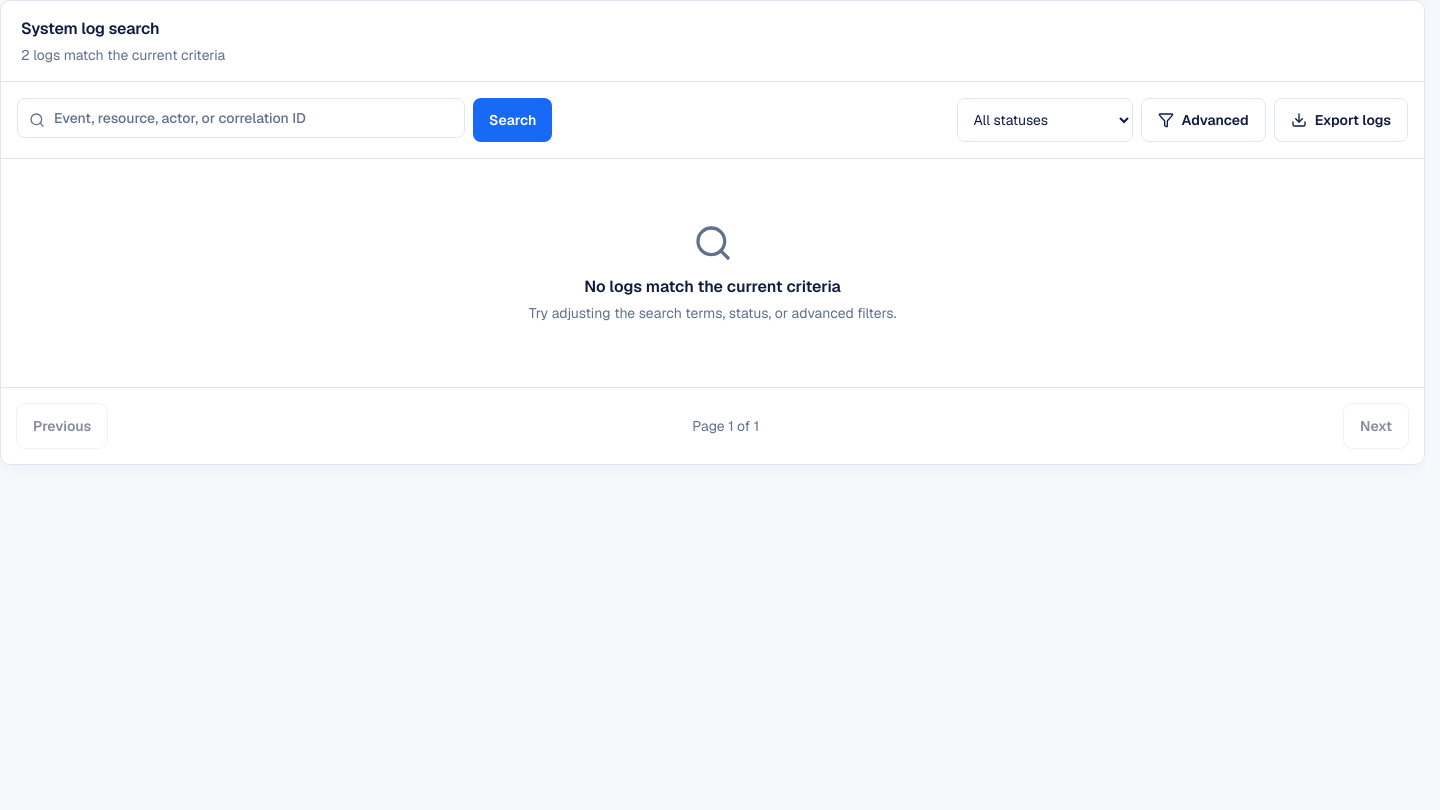
Test: Investigation log export errors › retains the form and shows request failures inside the modal
The image size is (1440, 810).
Click the button "Export logs".
click(1341, 120)  # box [1274, 98, 1408, 142]
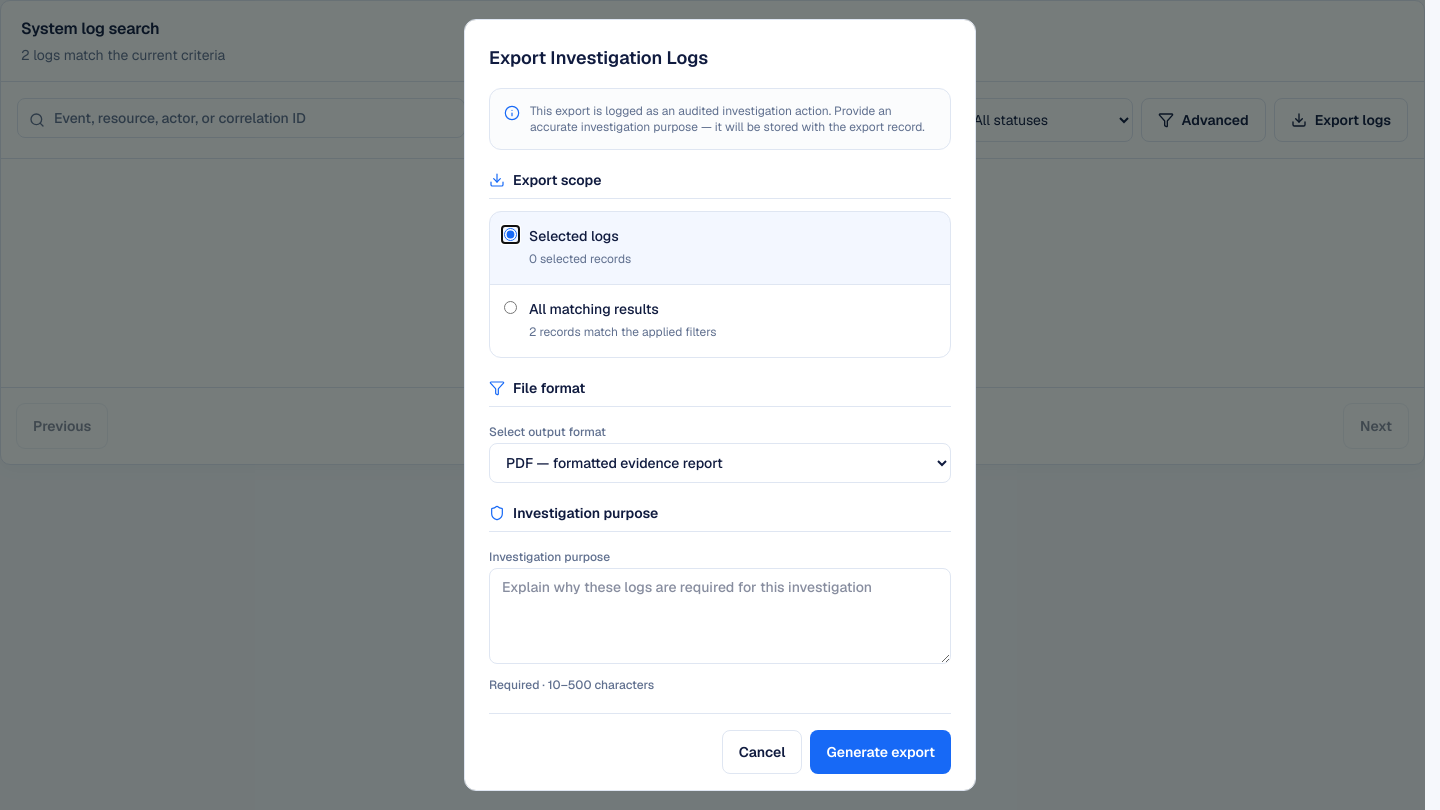
Click the radio button labelled "All matching results 2 records match the applied filters".
click(510, 308)  # box [504, 301, 517, 314]
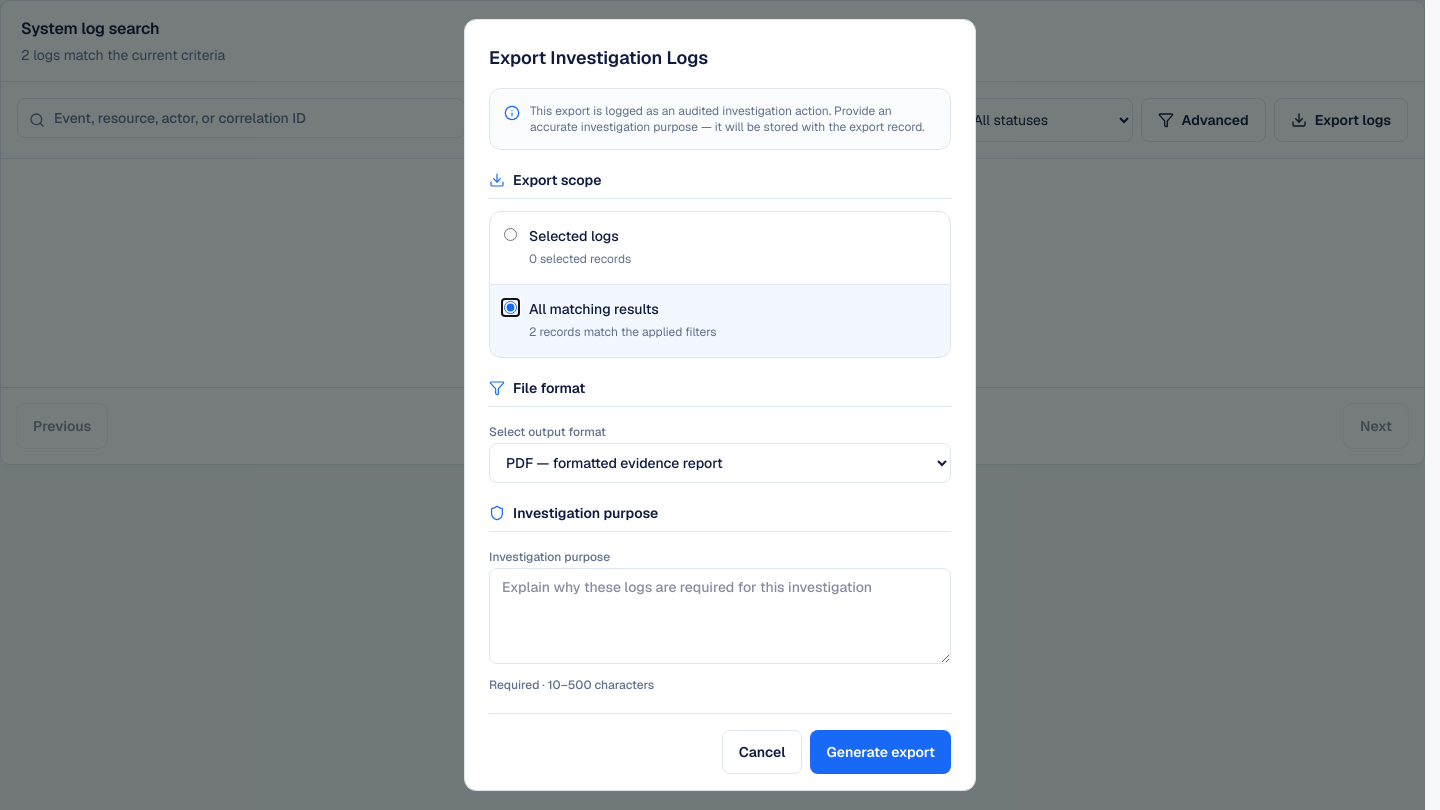
Type "Investigate notification delivery" into the text box labelled "Investigation purpose Required · 10–500 characters".
click(720, 616); type("Investigate notification delivery")  # box [489, 568, 951, 664]
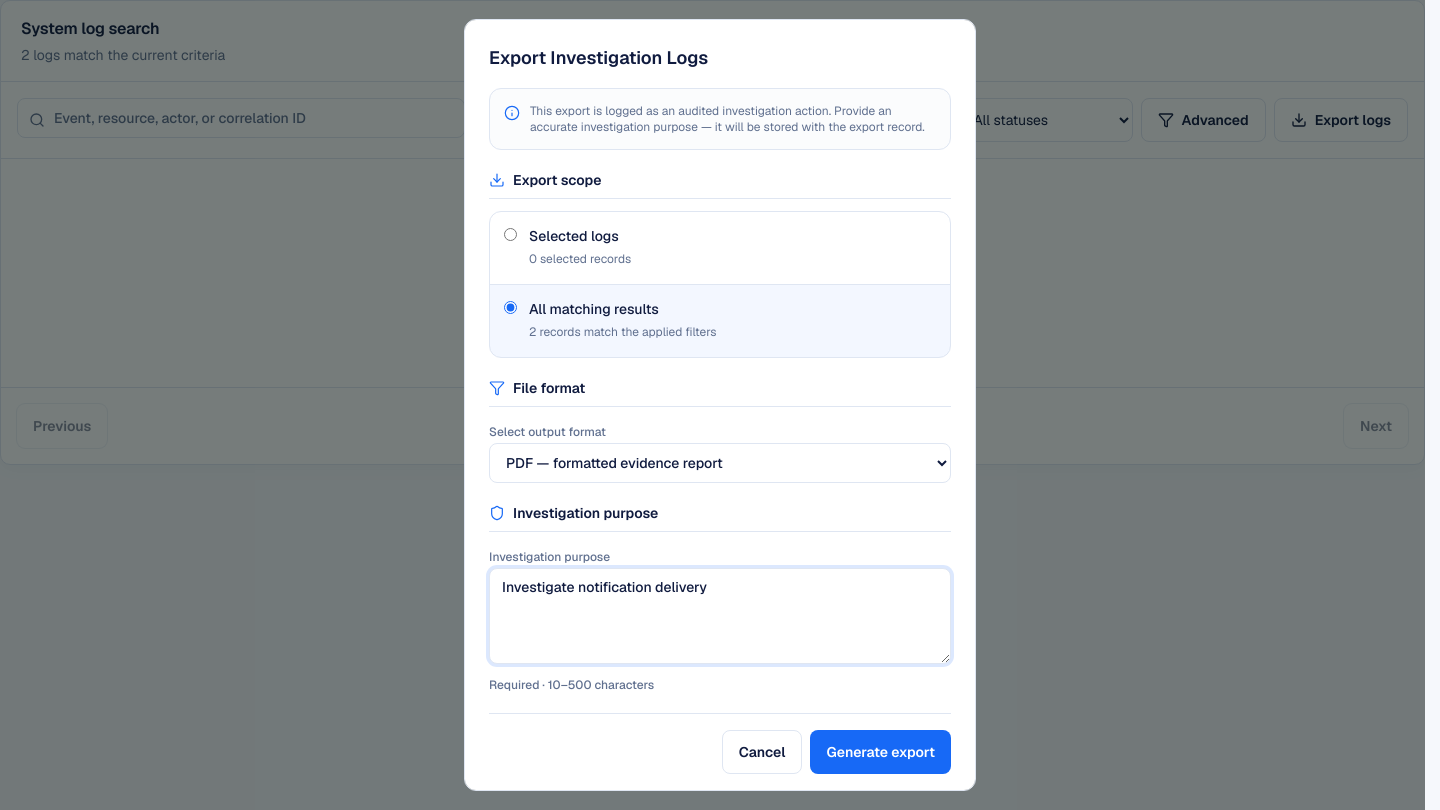
Click the button "Generate export".
click(881, 752)  # box [810, 730, 951, 774]
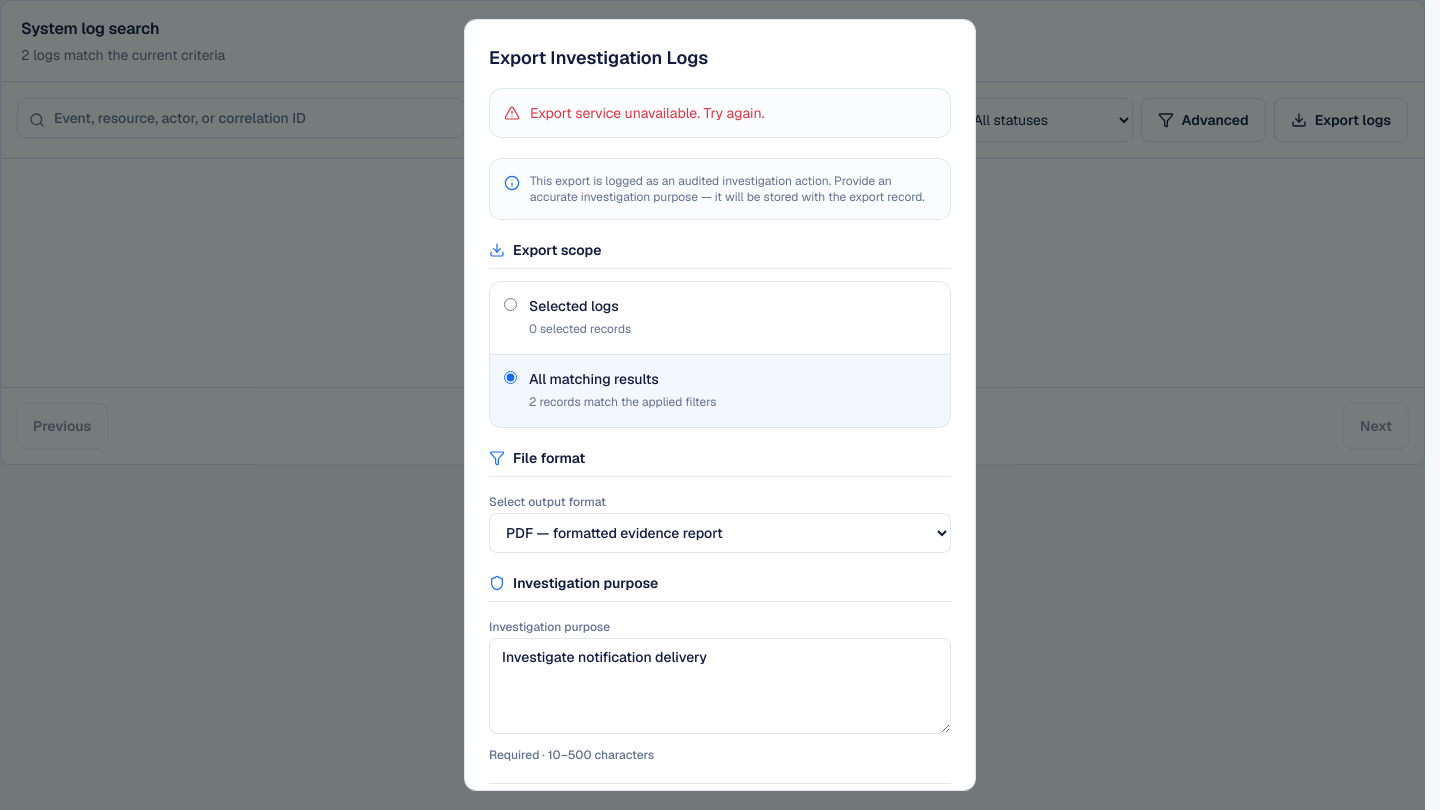
Expected: the message shows "Export service unavailable", [530, 104, 764, 122]
